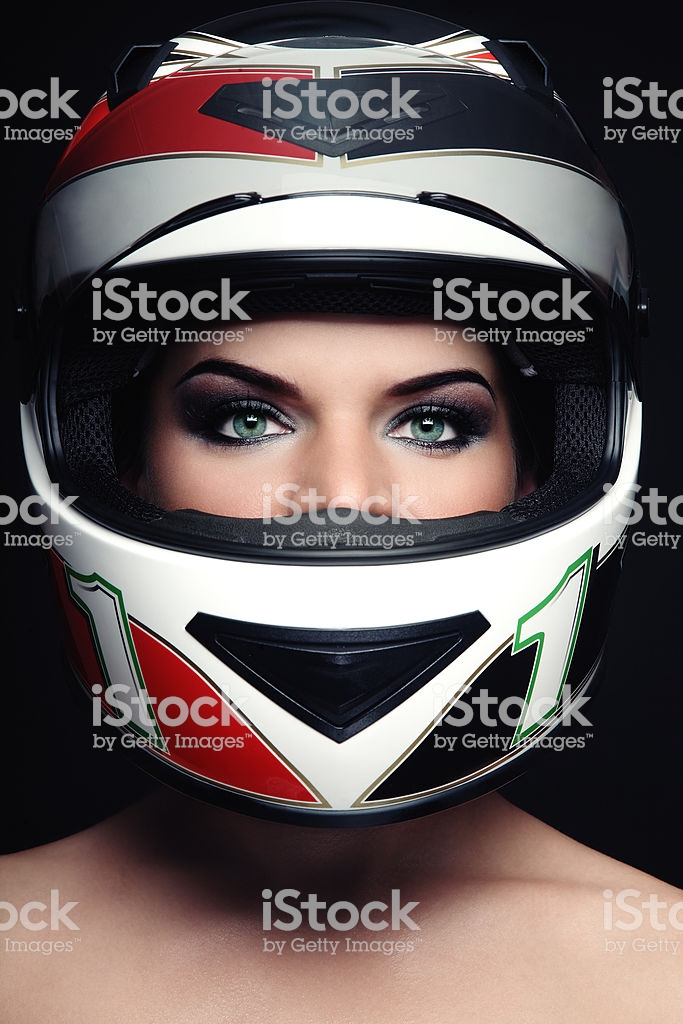helmet: (30, 45, 633, 831)
